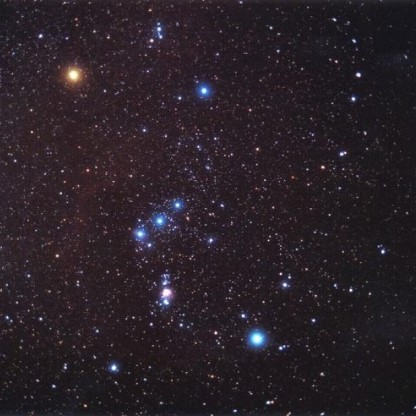Orion: (51, 57, 96, 101), (236, 322, 270, 357), (188, 76, 217, 109), (95, 358, 121, 383), (127, 220, 148, 249), (150, 207, 171, 236), (169, 189, 186, 220)
